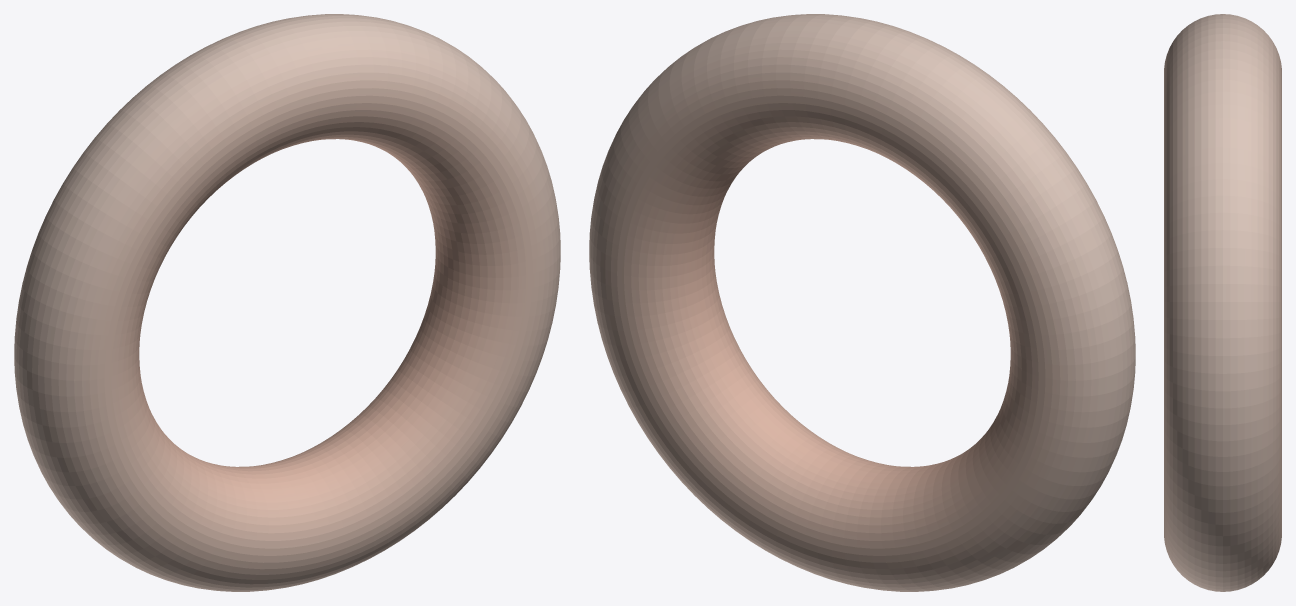
3 renders of one model, left to right at view 1: azimuth 30°, elevation 25°; view 2: azimuth 150°, elevation 25°; view 3: azimuth 270°, elevation 25°, orthographic. The views are drawn at different scales.
Parts seen in each view (by area): view 1: world; view 2: world; view 3: world.
Part boxes in pixels (x1,y1,x2,y2): world: [14, 14, 560, 591]; world: [589, 14, 1135, 591]; world: [1164, 14, 1281, 591].
Size of the model in its own units: 29.33 by 29.33 by 5.99.
